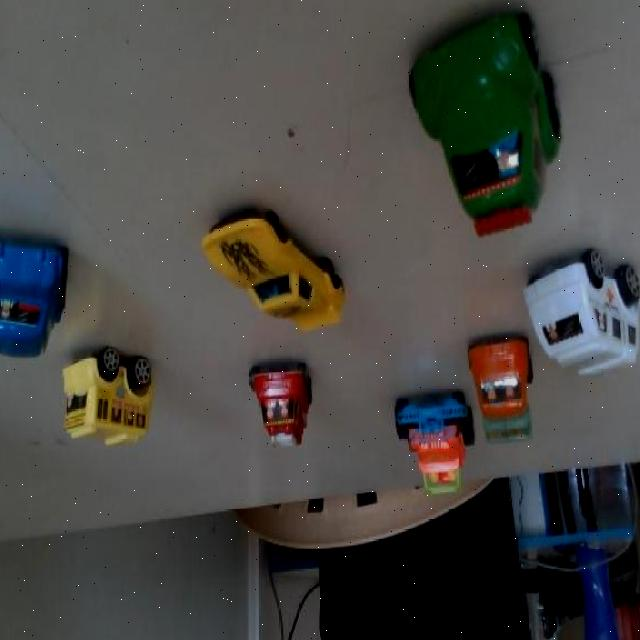car: (413, 30, 582, 232), (199, 200, 355, 344), (529, 239, 640, 388), (68, 338, 164, 448), (468, 329, 542, 458), (385, 394, 471, 504), (0, 227, 70, 362), (249, 350, 325, 460)
